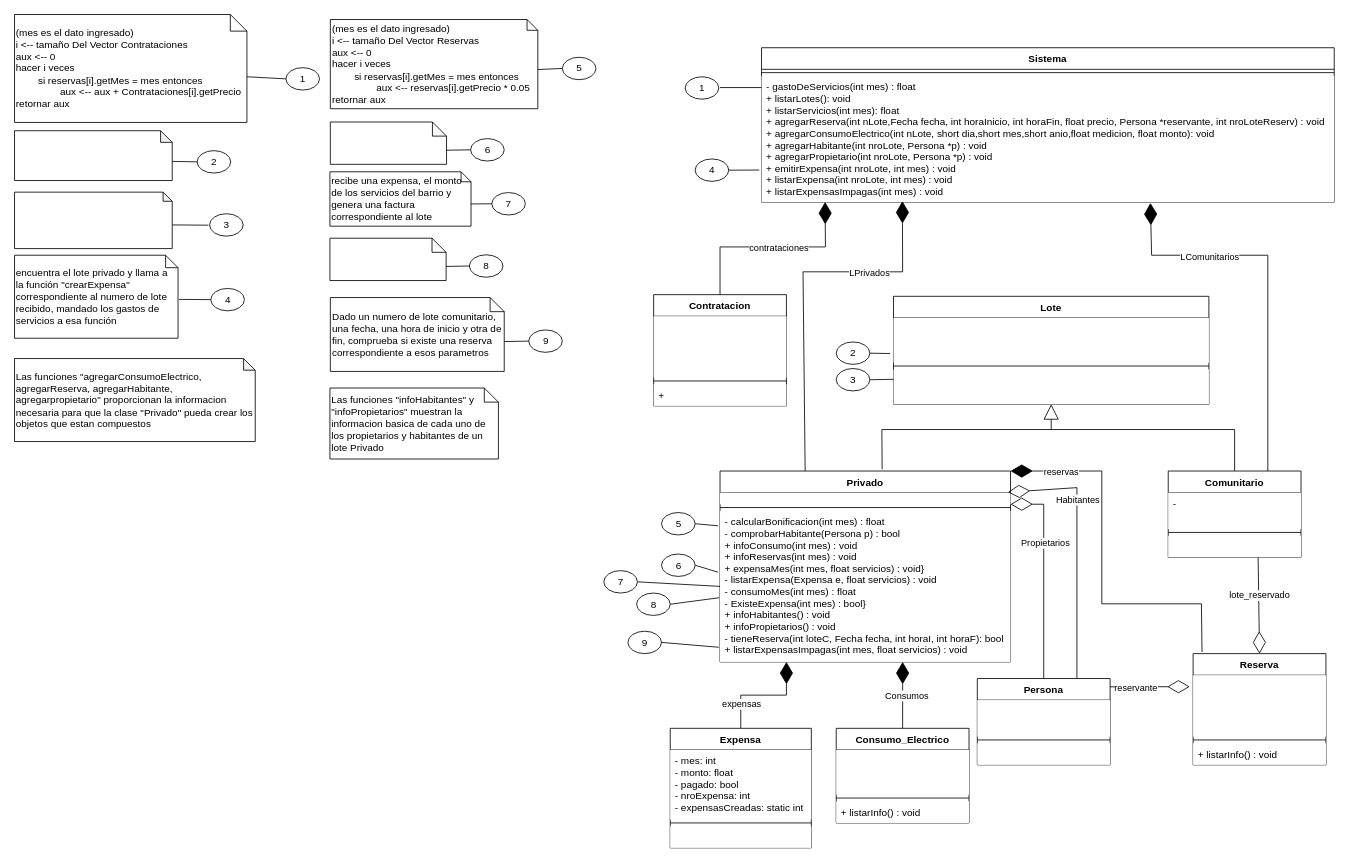
This 1349x862 diagram has some shape labels left out. Each missing label, with the centre of its shape:
+ listarInfo () : void: the point at 1050,386
- fecha : float - horaInicio : int - horaFin: int - precio: float: the point at 1259,705
- medicion: float - fecha: Fecha - monto : float: the point at 902,771
- NLote : int - area: float - sumaArea : static float: the point at 1050,339
- nombre : string - DNI : int: the point at 1043,718
- tipo_servicio: TipoServicio - empresa: string - fecha : Fecha - costo : float: the point at 719,346
Lista la expensa de un mes dado: the point at 388,142
Lista la informacion basica del lote y se redefine en la clase heredada Privado: the point at 93,220
obtiene el monto del consumo electrico de un determinado mes: the point at 387,259
se le suma a la variable "sumaArea" el area con el que es creado un lote: the point at 93,155
